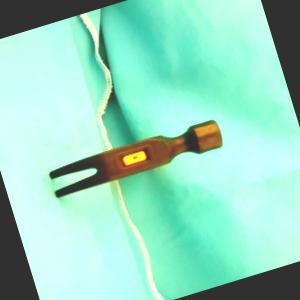martelo: (45, 116, 226, 199)
